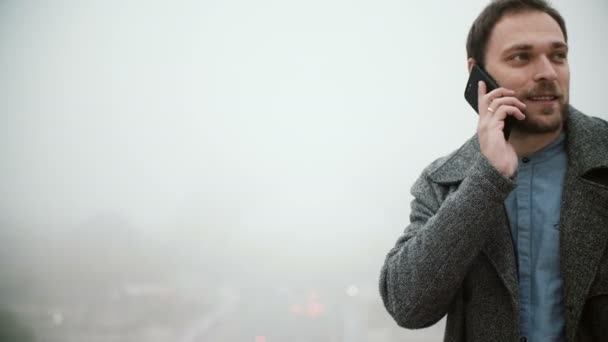phone: (466, 71, 529, 137)
talk: (466, 42, 573, 167)
